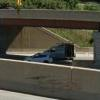Bridge: (0, 0, 95, 36)
